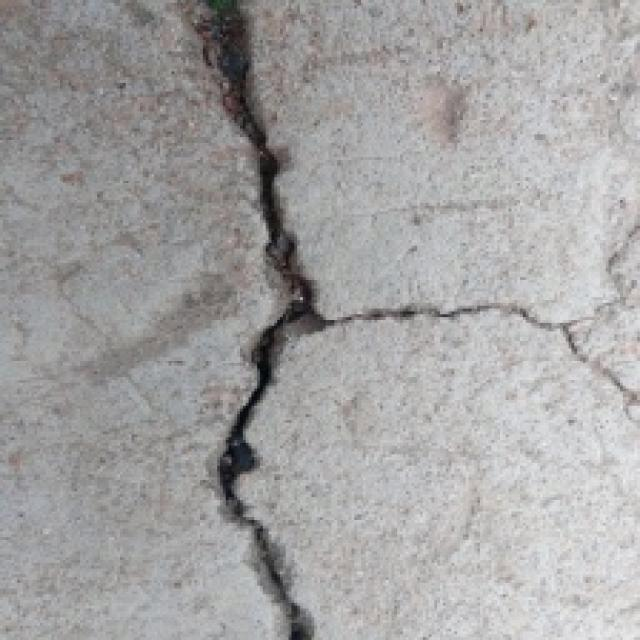crack: (168, 0, 352, 640)
